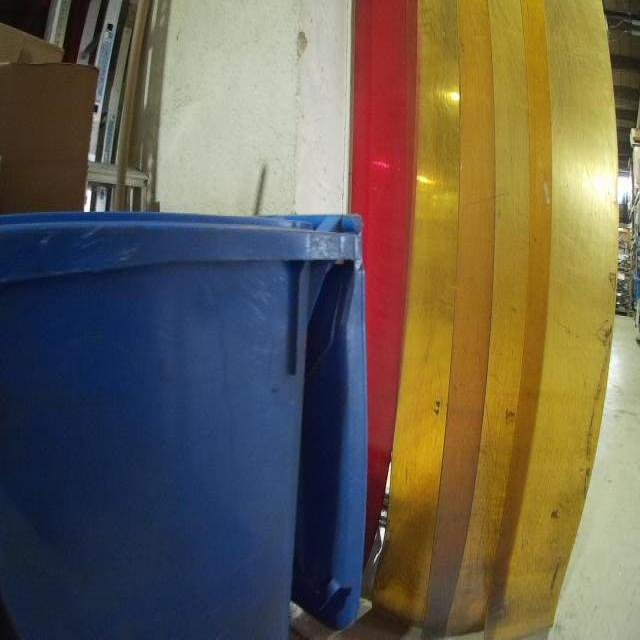stillage: (619, 270, 635, 319)
